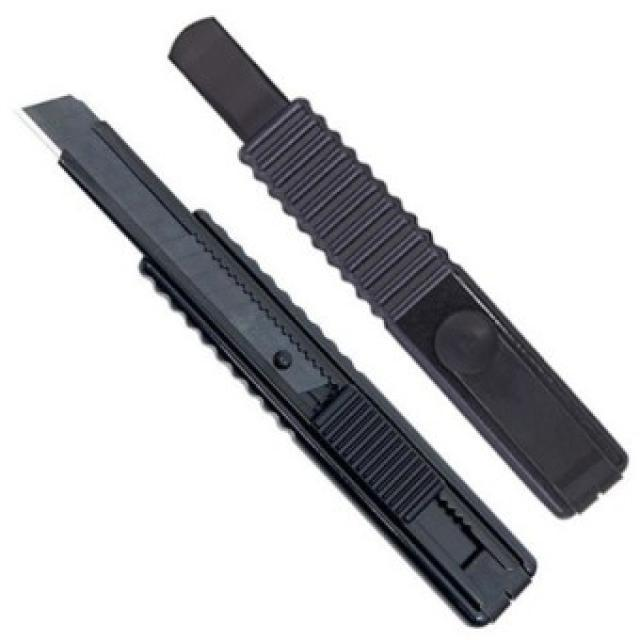cutter: (10, 74, 543, 632), (149, 8, 634, 534)
